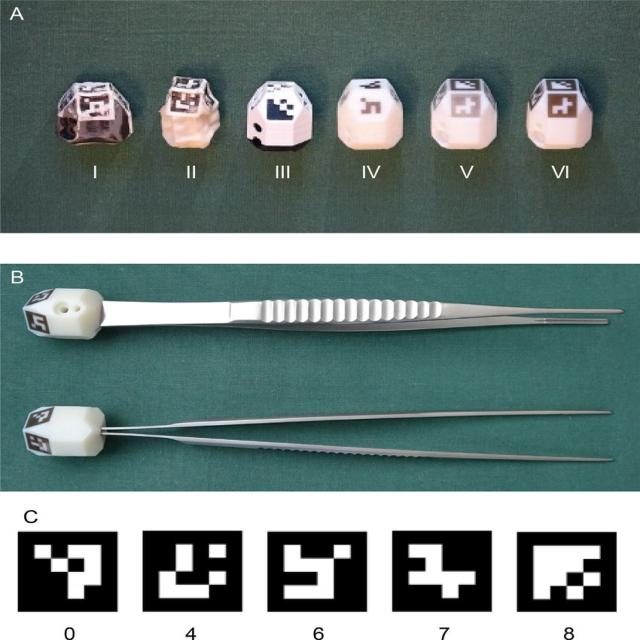aruco: (143, 525, 245, 613), (393, 528, 494, 614), (516, 527, 618, 612), (18, 530, 117, 612), (267, 532, 368, 611)
